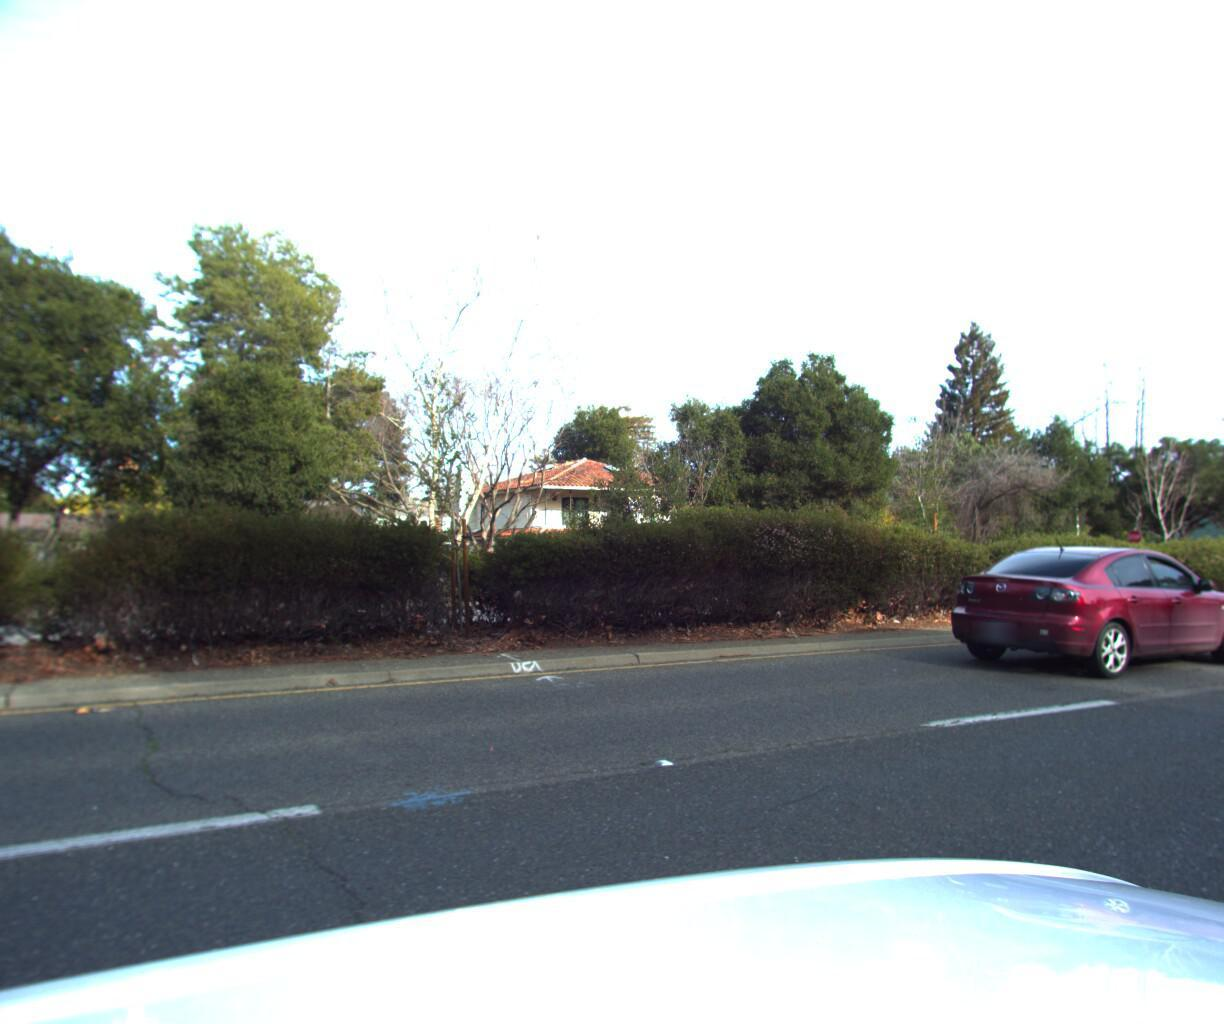car: (930, 542, 1224, 687)
